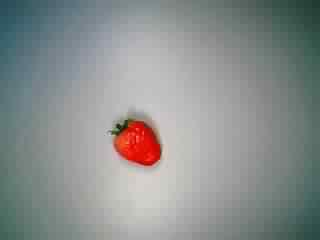strawberry: (102, 107, 168, 173)
